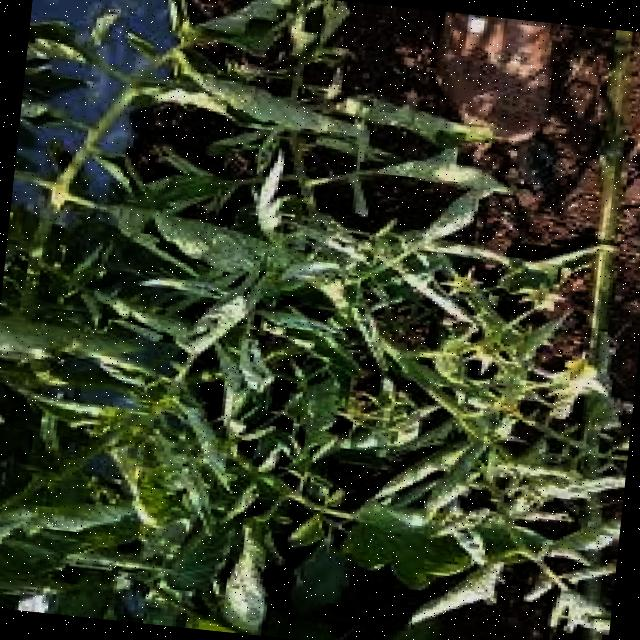leaf curl: (16, 139, 524, 635), (83, 0, 430, 159)
